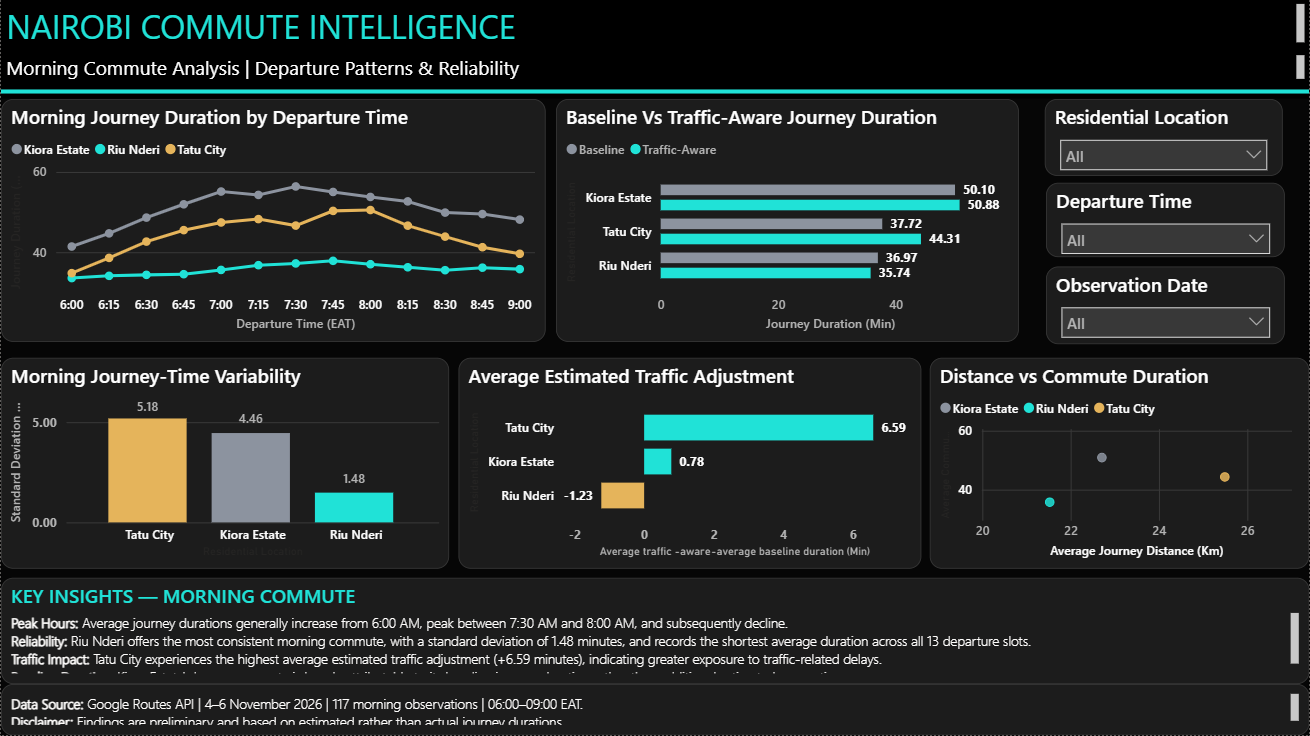

Layout of this report page (visuals, bound fields, positions):
{"tool":"powerbi","page":{"name":"Morning Commute Analysis","canvas":[1280,720],"ordinal":1},"visuals":[{"type":"shape","box":[0,0,1280,97.5],"z":0,"group":"g1"},{"type":"lineChart","title":"Morning Journey Duration by Departure Time","fields":{"Category":["Commute_Observations.departure_time"],"Y":["Commute_Observations.Average Commute Duration"],"Series":["Dim_Location.Residential Location"]},"box":[0,97.5,532.5,237.5],"z":0},{"type":"textbox","box":[0,0,1280,50],"z":1000,"group":"g1"},{"type":"slicer","title":"Residential Location","fields":{"Values":["Dim_Location.Residential Location"]},"box":[1021.2,97.5,232.5,75],"z":1000},{"type":"textbox","box":[0,50,1280,34],"z":2000,"group":"g1"},{"type":"clusteredColumnChart","title":"Morning Journey-Time Variability","fields":{"Category":["Dim_Location.Residential Location"],"Y":["Commute_Observations.Commute Standard Deviation"]},"box":[0,351.2,438.8,206.2],"z":2000},{"type":"shape","box":[0,84.4,1280,12.2],"z":3000,"group":"g1"},{"type":"clusteredBarChart","title":"Baseline Vs Traffic-Aware Journey Duration","fields":{"Category":["Dim_Location.Residential Location"],"Y":["Commute_Observations.Average Static Duration","Commute_Observations.Average Commute Duration"]},"box":[542.5,97.5,452.5,237.5],"z":3000},{"type":"clusteredBarChart","title":"Average Estimated Traffic Adjustment ","fields":{"Category":["Dim_Location.Residential Location"],"Y":["Commute_Observations.Average Traffic Adjustments"]},"box":[447.5,351.2,452.5,206.2],"z":4000},{"type":"scatterChart","title":"Distance vs Commute Duration","fields":{"X":["Commute_Observations.Average Journey Distance"],"Y":["Commute_Observations.Average Commute Duration"],"Series":["Dim_Location.Residential Location"]},"box":[908.8,351.2,371.2,206.2],"z":5000},{"type":"slicer","title":"Observation Date","fields":{"Values":["Commute_Observations.observation_date"]},"box":[1022.5,261.2,233.8,76.2],"z":6000},{"type":"slicer","title":"Departure Time","fields":{"Values":["Commute_Observations.departure_time"]},"box":[1022.5,180,233.8,72.5],"z":7000},{"type":"textbox","title":"KEY INSIGHTS — MORNING COMMUTE","box":[0,566.2,1280,103.8],"z":8000},{"type":"textbox","box":[0,670,1280,50],"z":9000},{"type":"group","id":"g1","title":"Report Header","box":[0,0,1280,97.5],"z":10000}]}

Visuals, with their boxes in screenshot pixels (x1, y1, x2, y2), scaled from the page's 1280x720 canvas onto the 1310x736 screenshot:
shape: region(0, 0, 1309, 100)
"Morning Journey Duration by Departure Time" lineChart: region(0, 100, 545, 342)
textbox: region(0, 0, 1309, 51)
"Residential Location" slicer: region(1045, 100, 1283, 176)
textbox: region(0, 51, 1309, 86)
"Morning Journey-Time Variability" clusteredColumnChart: region(0, 359, 449, 570)
shape: region(0, 86, 1309, 99)
"Baseline Vs Traffic-Aware Journey Duration" clusteredBarChart: region(555, 100, 1018, 342)
"Average Estimated Traffic Adjustment " clusteredBarChart: region(458, 359, 921, 570)
"Distance vs Commute Duration" scatterChart: region(930, 359, 1309, 570)
"Observation Date" slicer: region(1046, 267, 1286, 345)
"Departure Time" slicer: region(1046, 184, 1286, 258)
"KEY INSIGHTS — MORNING COMMUTE" textbox: region(0, 579, 1309, 685)
textbox: region(0, 685, 1309, 735)
"Report Header" group: region(0, 0, 1309, 100)
